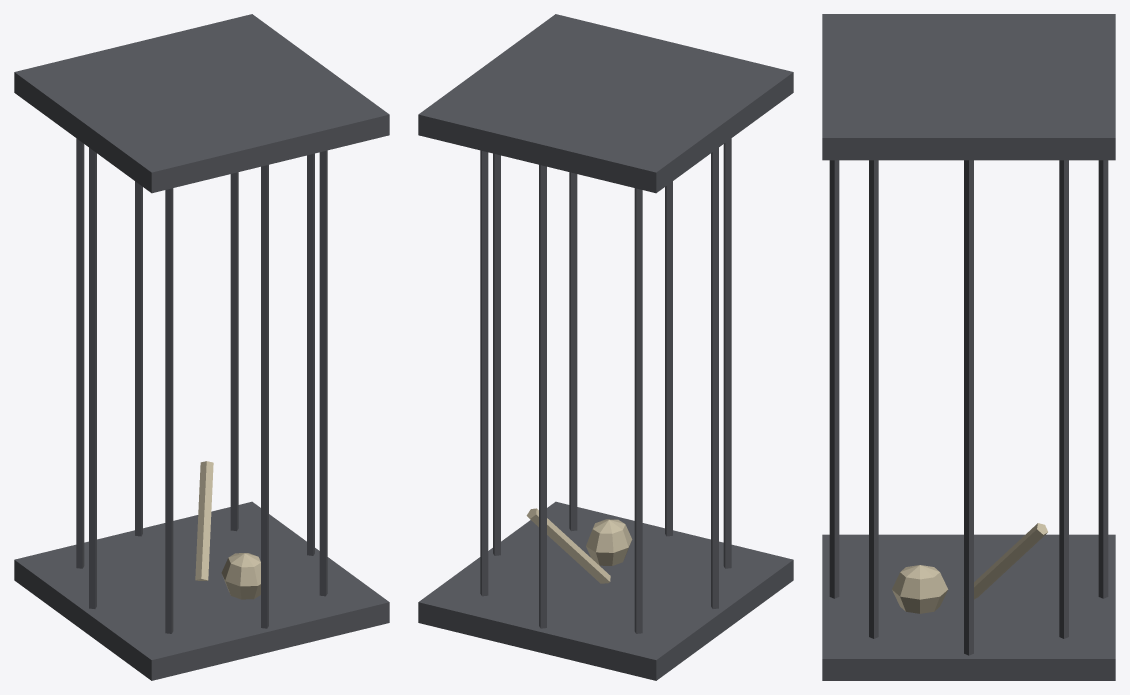
The model's file is cage.glb.
3 views of the same model, side by side, from view 1: azimuth 30°, elevation 25°; view 2: azimuth 150°, elevation 25°; view 3: azimuth 270°, elevation 25° (orthographic). The views are drawn at different scales.
Visible parts, largest first — view 1: cage; view 2: cage; view 3: cage.
Part boxes in pixels (x1,y1,x2,y2): cage: (14,14,389,680); cage: (418,14,793,680); cage: (822,14,1115,680).
Size of the model in its own units: 1.2 by 2.45 by 1.2.
